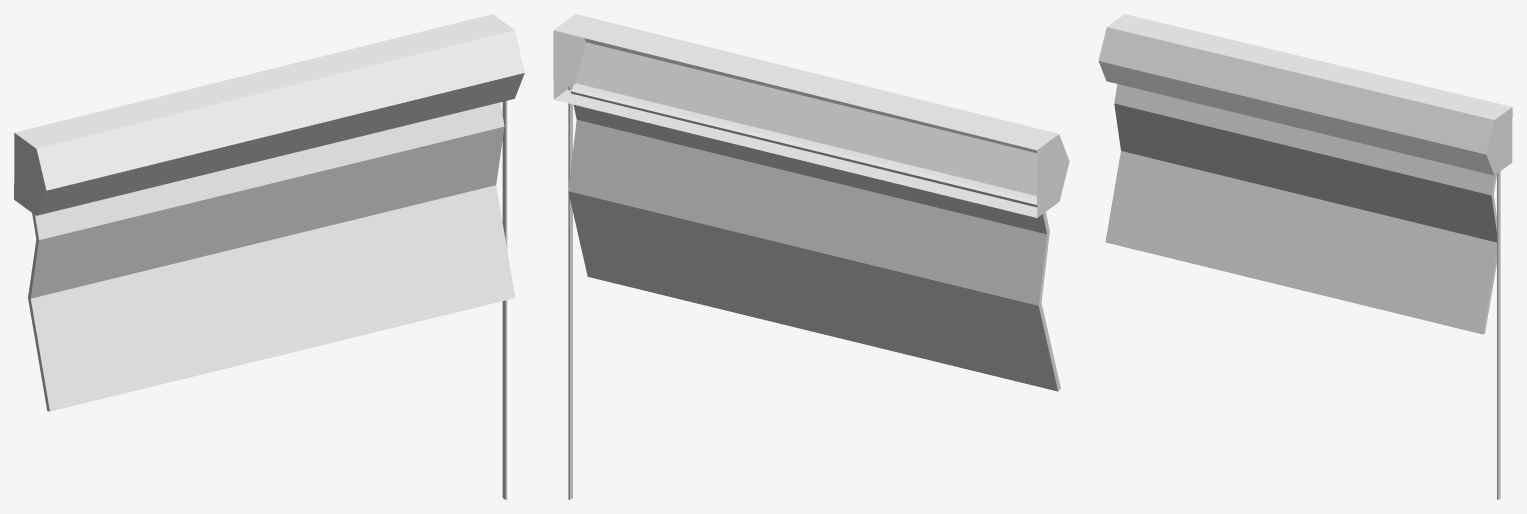
The model's file is Cornice.fbx.
3 renders of one model, left to right at view 1: azimuth 30°, elevation 25°; view 2: azimuth 150°, elevation 25°; view 3: azimuth 330°, elevation 25°, orthographic. The views are drawn at different scales.
Visible parts, largest first — view 1: Cornice; view 2: Cornice; view 3: Cornice.
Part boxes in pixels (<box>): Cornice: <box>14,14,524,499</box>; Cornice: <box>553,14,1069,499</box>; Cornice: <box>1098,14,1512,499</box>.
Bounding box in the file's own units: 120 × 14 × 113.
